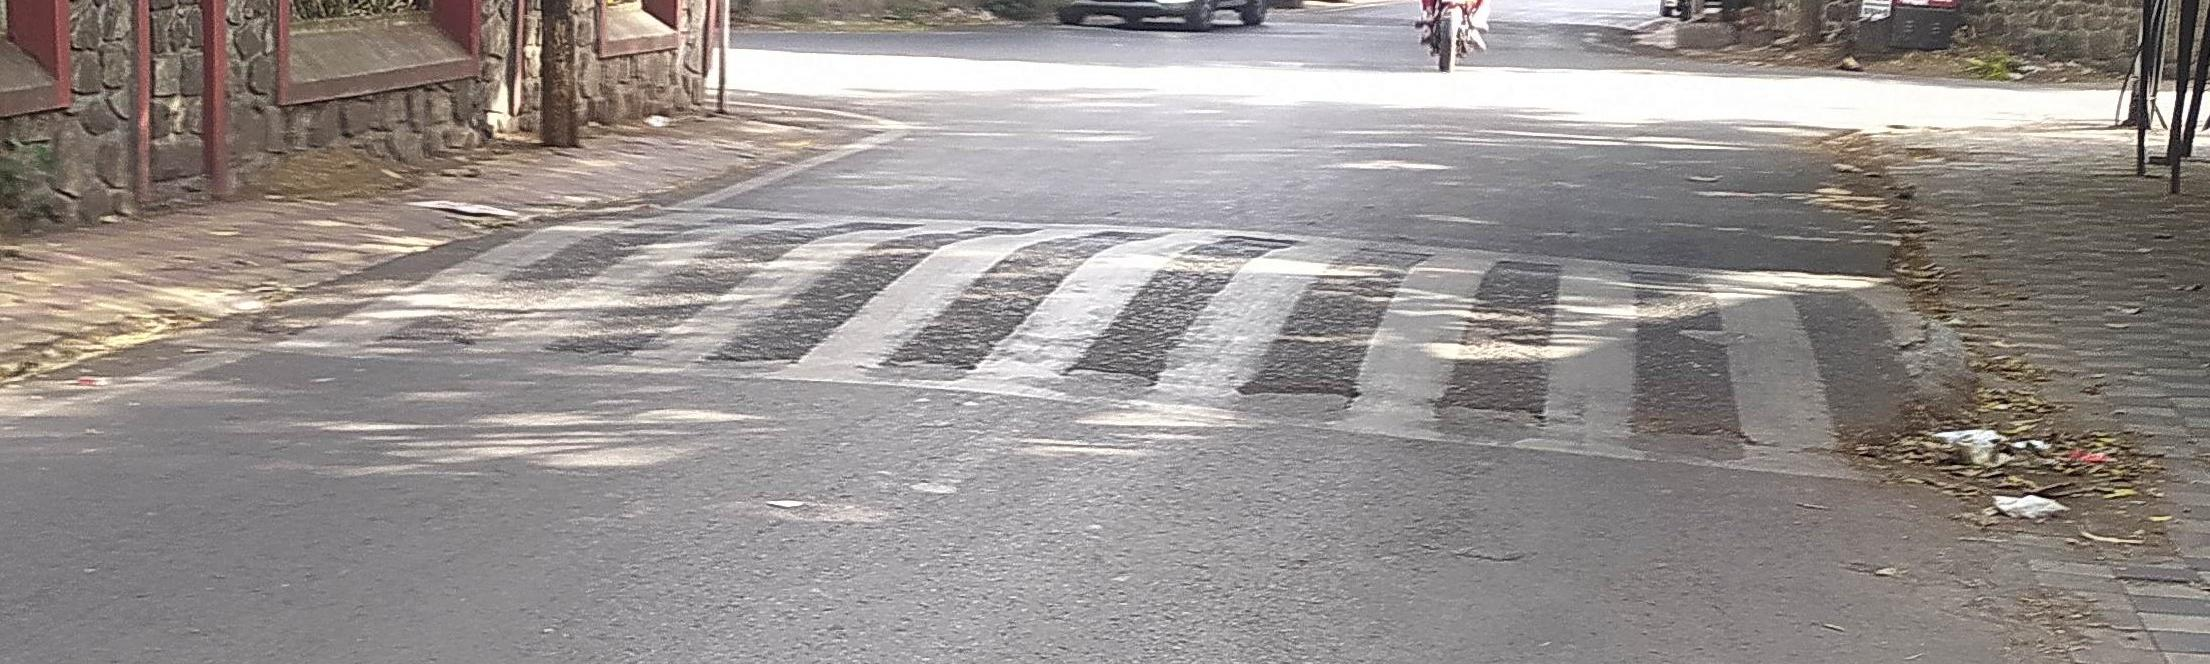speed-bump: (270, 202, 1968, 446)
